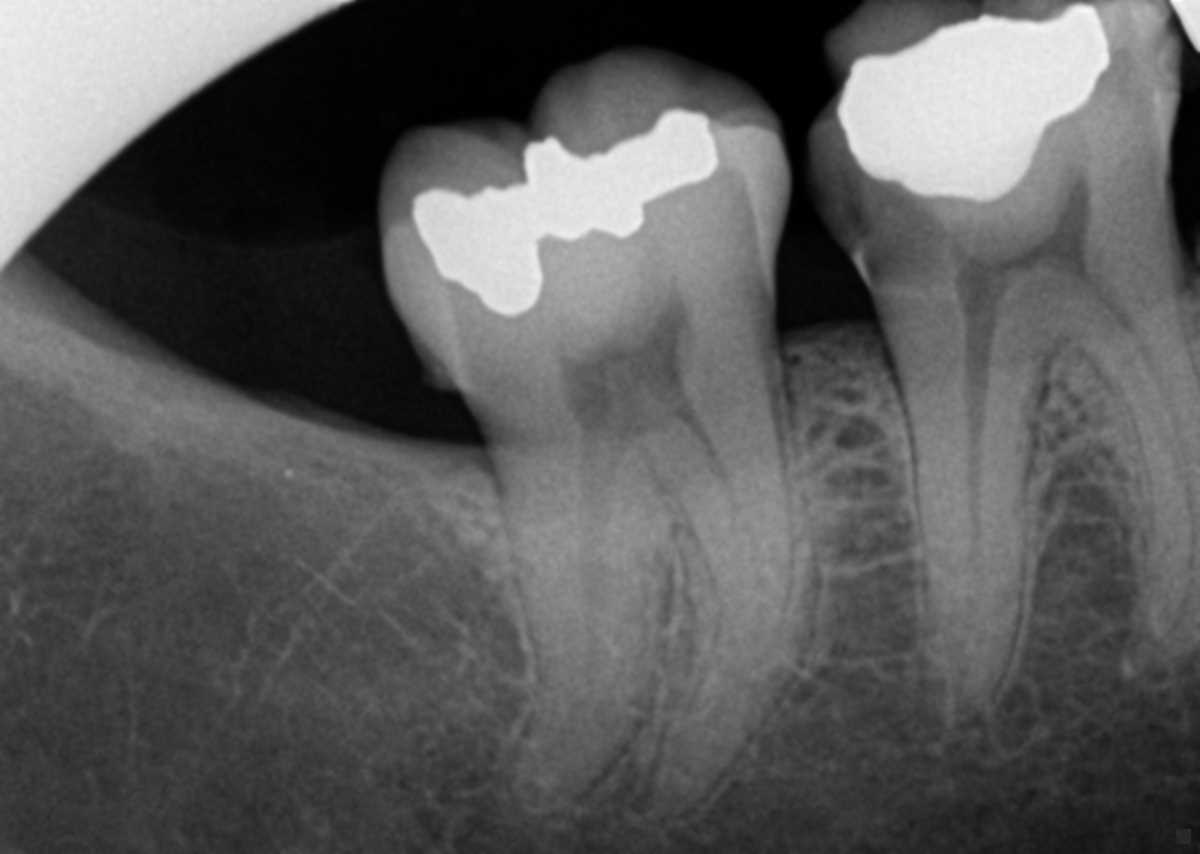Distal Canal: (548, 482, 615, 778), (959, 346, 997, 634)
Distal Root: (891, 339, 1057, 728), (494, 450, 660, 817)
Mesial Canal: (1112, 304, 1196, 508), (691, 431, 758, 611)
Mesial Root: (647, 387, 813, 824), (1060, 266, 1200, 676)
decay: (814, 127, 949, 286)
